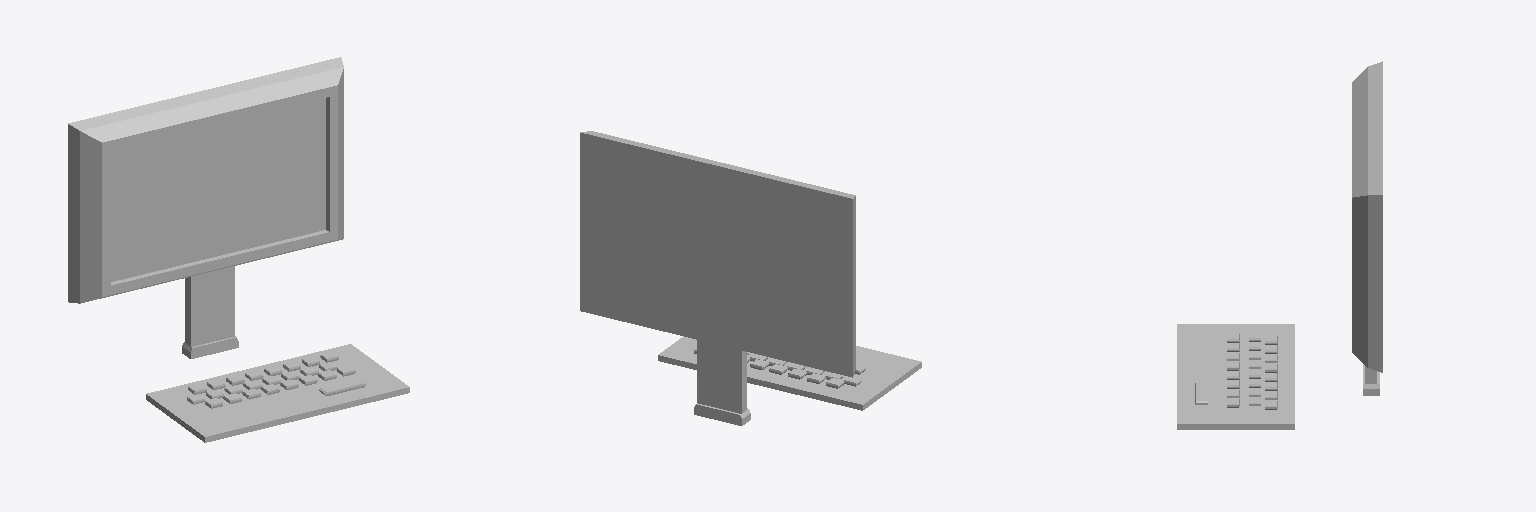
Rendered from computer.obj.
The picture shows the model from 3 angles: view 1: azimuth 30°, elevation 25°; view 2: azimuth 150°, elevation 25°; view 3: azimuth 270°, elevation 25°; orthographic projection.
Parts seen in each view (by area): view 1: Plane, Plane.001, Cube_Cube.001, Plane.004, Plane.002, Plane.003; view 2: Plane, Plane.001, Cube_Cube.001, Plane.002, Plane.003; view 3: Plane.001, Plane, Plane.002, Plane.004, Plane.003.
Part boxes in pixels (bbox=[...]): Plane: bbox=[68, 57, 343, 303]; Plane.001: bbox=[146, 344, 409, 442]; Cube_Cube.001: bbox=[182, 266, 238, 358]; Plane.004: bbox=[205, 366, 355, 408]; Plane.002: bbox=[188, 352, 338, 394]; Plane.003: bbox=[187, 362, 337, 404]; Plane: bbox=[580, 131, 855, 377]; Plane.001: bbox=[658, 336, 921, 410]; Cube_Cube.001: bbox=[694, 340, 750, 425]; Plane.002: bbox=[694, 348, 844, 388]; Plane.003: bbox=[747, 352, 861, 386]; Plane.001: bbox=[1177, 324, 1294, 429]; Plane: bbox=[1352, 61, 1382, 372]; Plane.002: bbox=[1265, 336, 1277, 409]; Plane.004: bbox=[1227, 334, 1239, 407]; Plane.003: bbox=[1249, 333, 1260, 405].
Size of the model in its own units: 0.8 by 0.7163 by 0.5227.